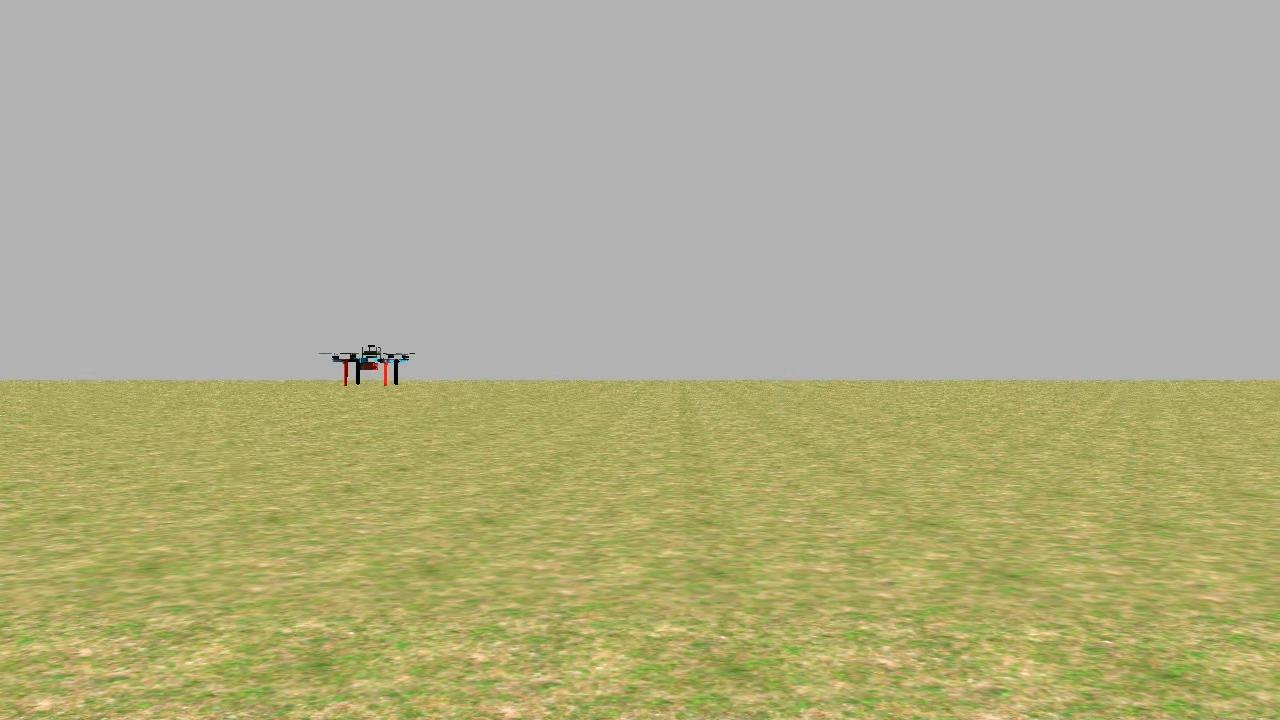UAV: (328, 342, 414, 390)
